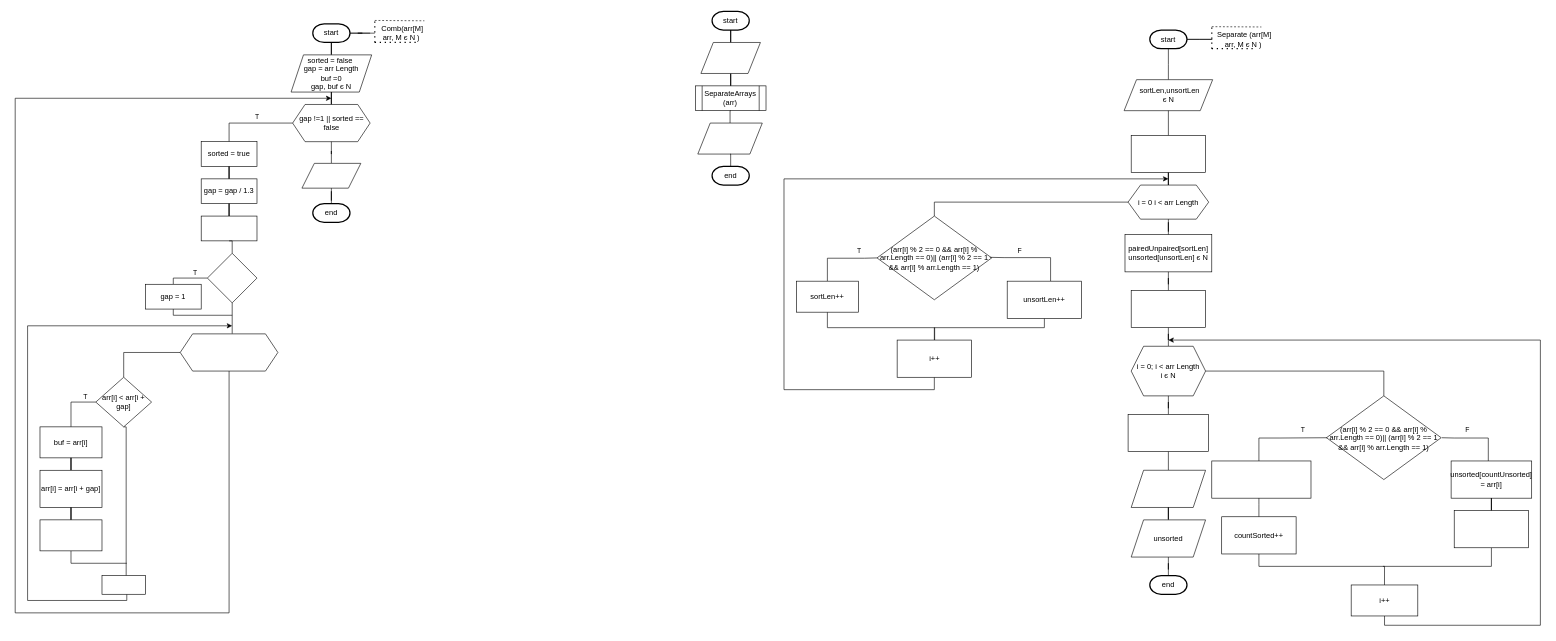
This 1556x641 diagram has some shape labels left out. Each missing label, with the box of its shape:
arr: (301, 163, 361, 188)
arr[]: (697, 122, 762, 154)
arr[i + gap] = buf: (39, 519, 102, 551)
arr[M] arr, M є N: (700, 42, 760, 73)
buf =0: (201, 215, 257, 241)
countSorted = 0 countUnsorted =0 countSorted, countUnsorted є Z: (1131, 290, 1206, 328)
countUnsorted++: (1454, 510, 1529, 548)
gap < 1: (207, 253, 257, 303)
i ++: (101, 575, 145, 594)
i = 0 i < arr Length-gap i є N: (180, 333, 278, 371)
pairedUnpaired: (1131, 470, 1206, 507)
pairedUnpaired = Comb(pairedUnpaired): (1127, 414, 1209, 452)
pairedUnpaired[countSorted] = arr[i]: (1211, 460, 1311, 498)
sortLen =0 unsortLen = 0: (1131, 135, 1206, 173)
